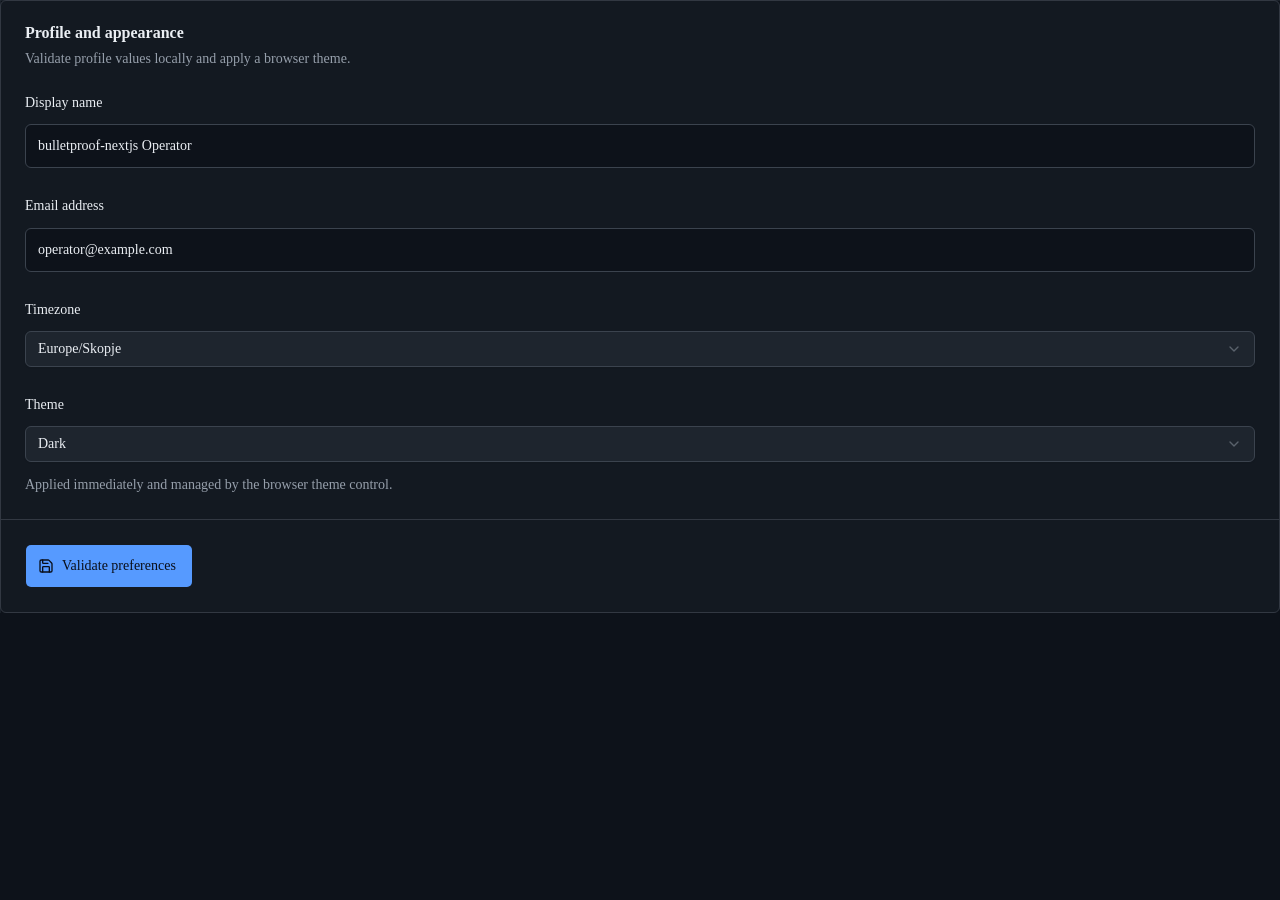
Scenario: SettingsForm › clears stale validation state when fields change
The width and height of the screenshot is (1280, 900).
Clear the field labelled "Display name" at point(640, 146), box [25,124,1255,168]
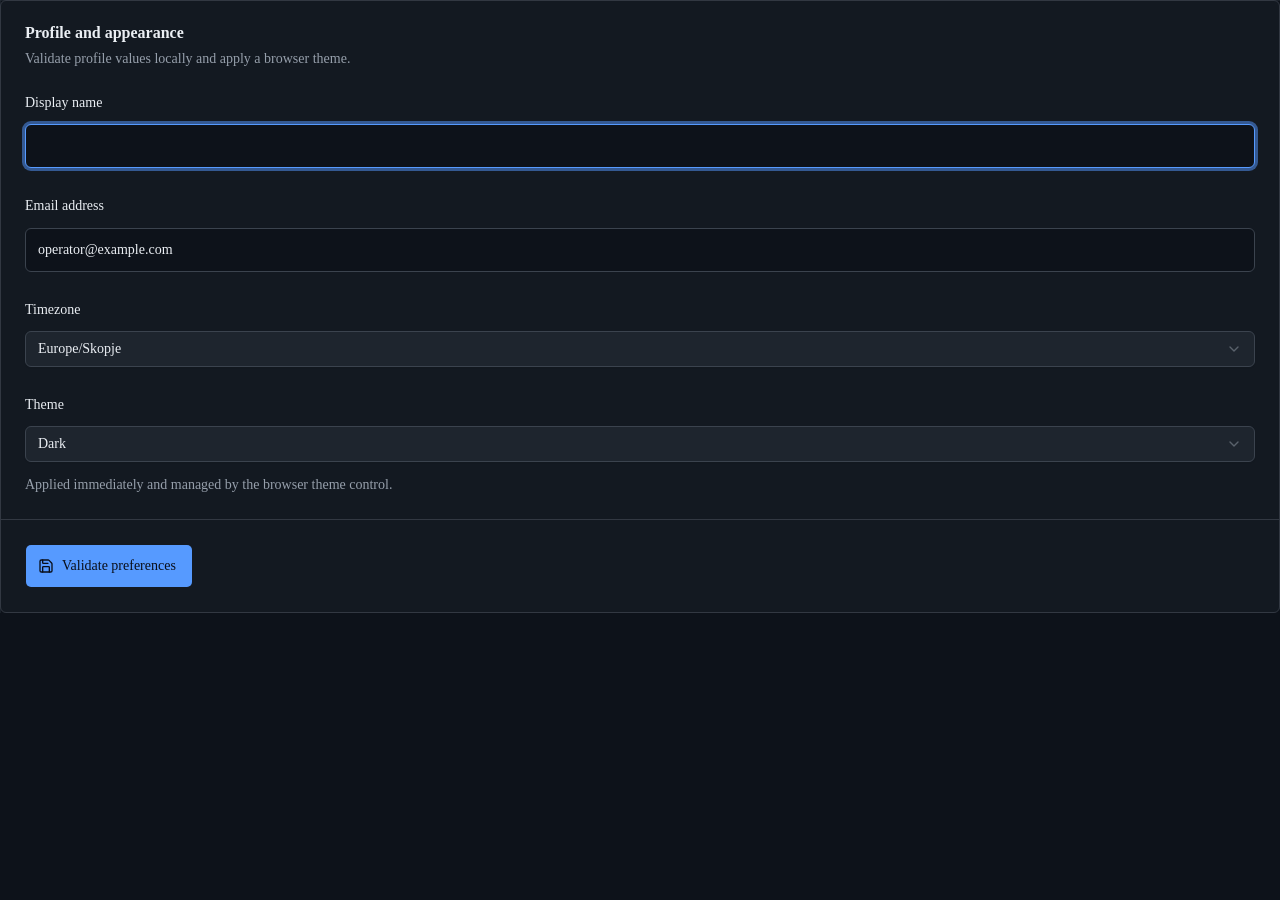
Click the button "Validate preferences".
click(109, 566)  # box [25,544,193,588]
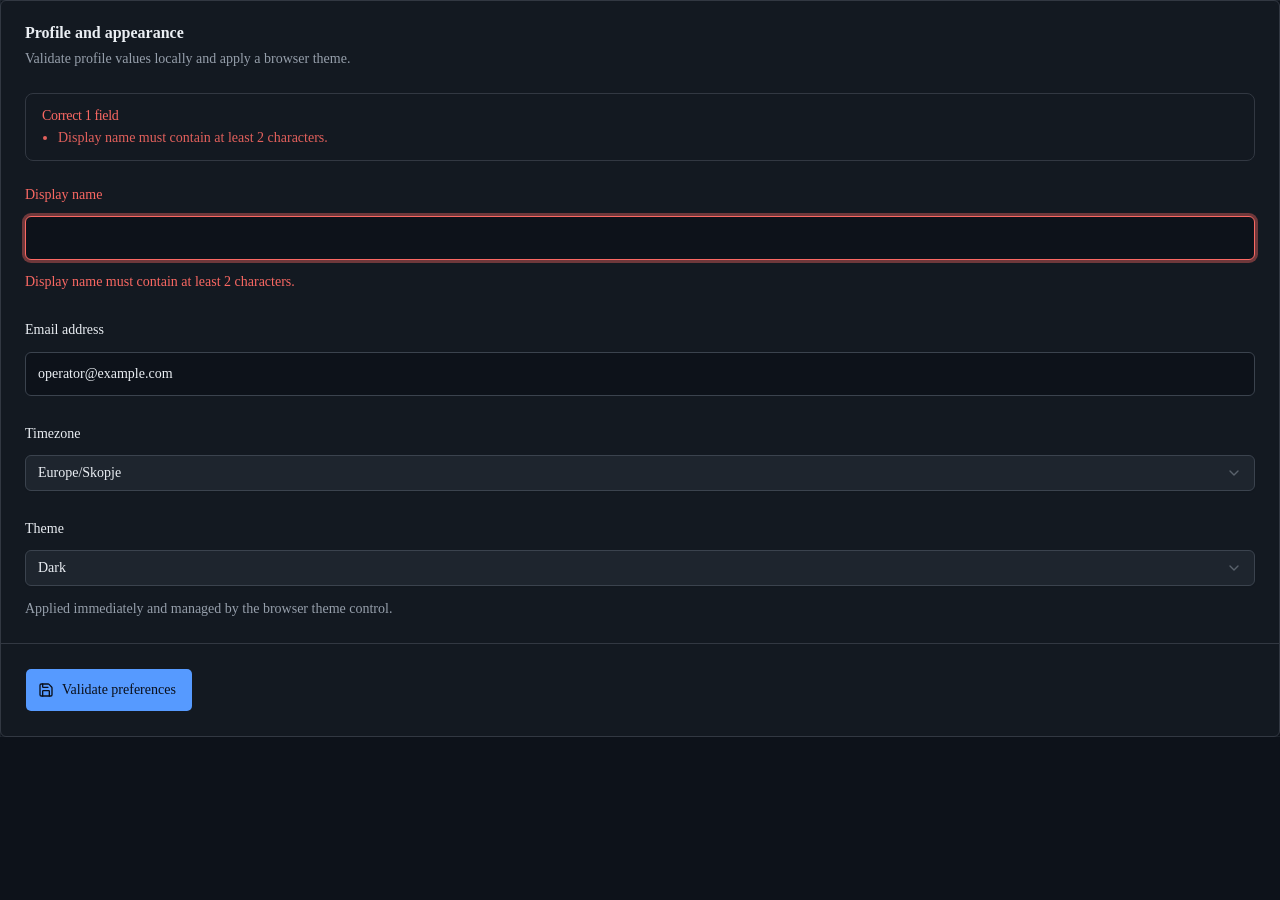
expect the number of links "Display name must contain at least 2 characters." is 2: met, box [58,130,328,145]; [25,274,295,289]
Type "bulletproof-nextjs Operator" into the field labelled "Display name".
click(640, 238); type("bulletproof-nextjs Operator")  # box [25,216,1255,260]
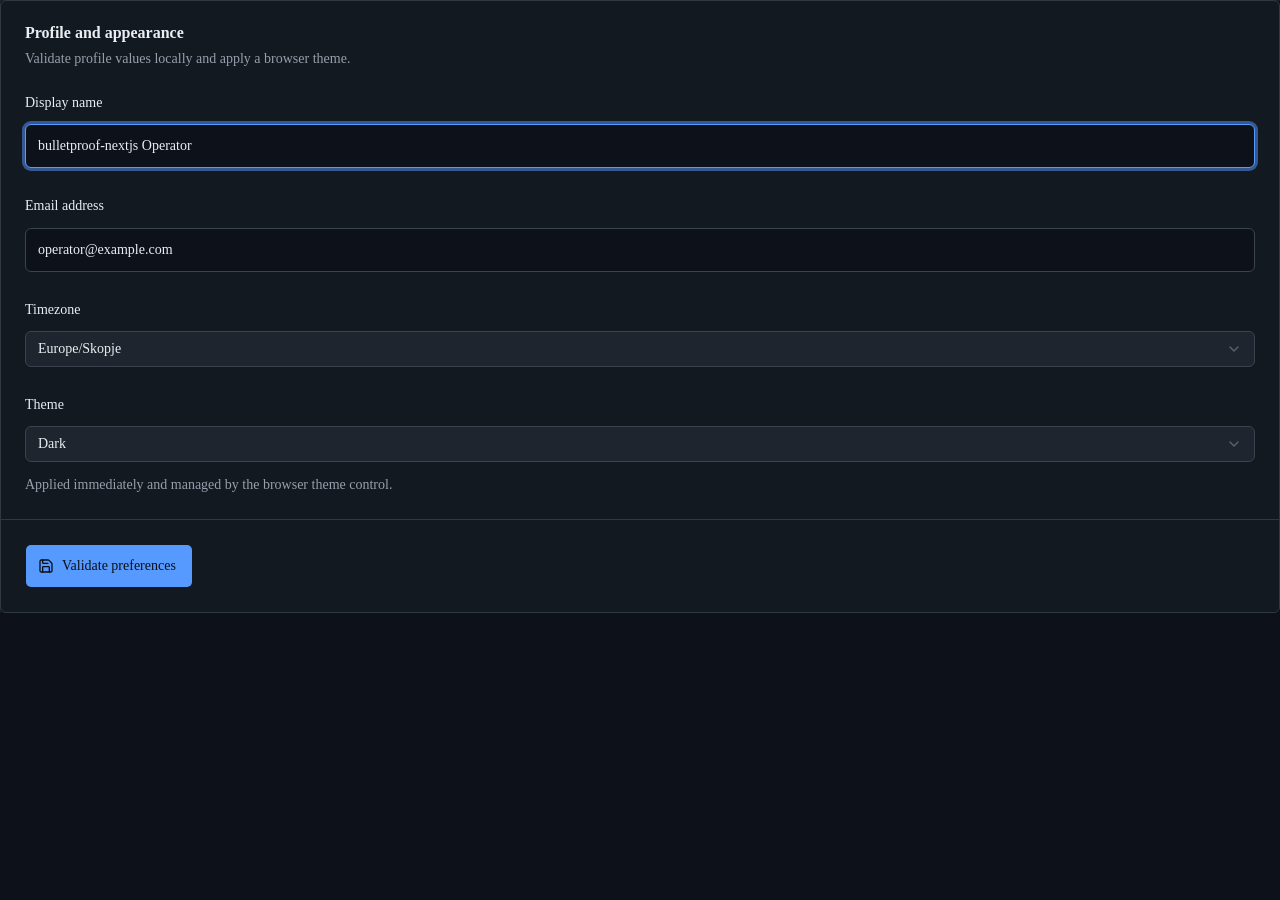
expect the link "Display name must contain at least 2 characters." is gone: met
